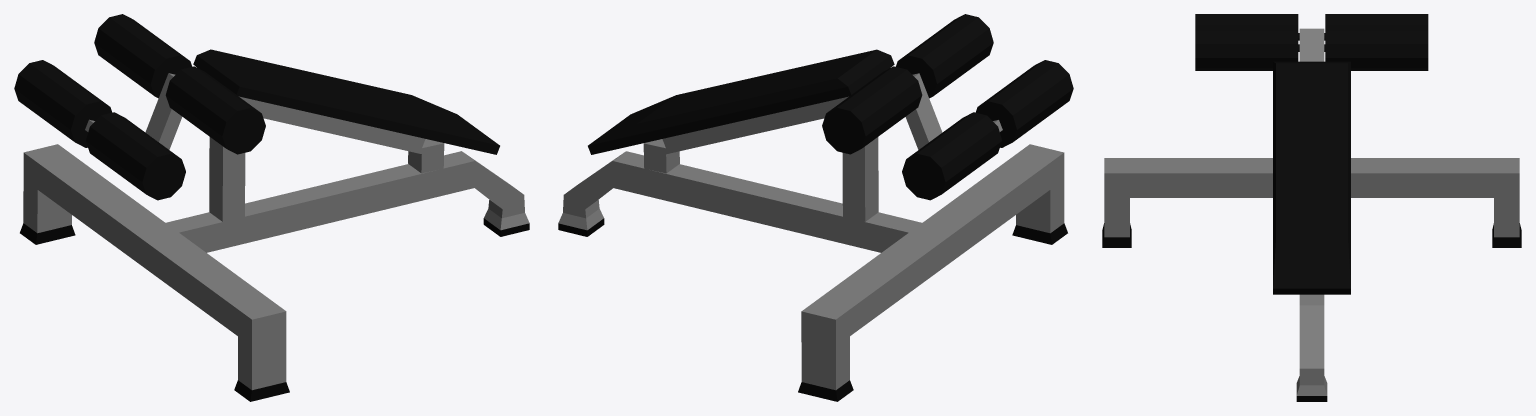
Rendered from AbdominalBench.001.fbx.
3 views of the same model, side by side, from view 1: azimuth 30°, elevation 25°; view 2: azimuth 150°, elevation 25°; view 3: azimuth 270°, elevation 25° (orthographic). The views are drawn at different scales.
Parts seen in each view (by area): view 1: AbdominalBench.001; view 2: AbdominalBench.001; view 3: AbdominalBench.001.
Part boxes in pixels (bbox=[...]): AbdominalBench.001: bbox=[14, 14, 529, 401]; AbdominalBench.001: bbox=[558, 14, 1073, 401]; AbdominalBench.001: bbox=[1102, 14, 1521, 401].
Bounding box in the file's own units: 127 × 66.82 × 114.
